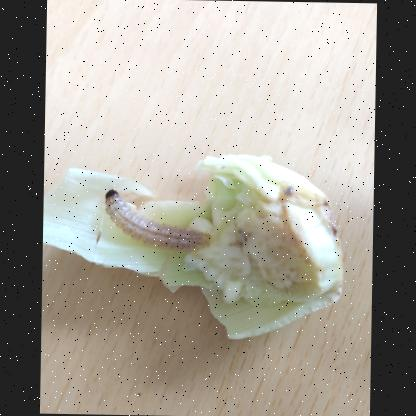Asian Corn Borer Larvae: (102, 186, 214, 254)
